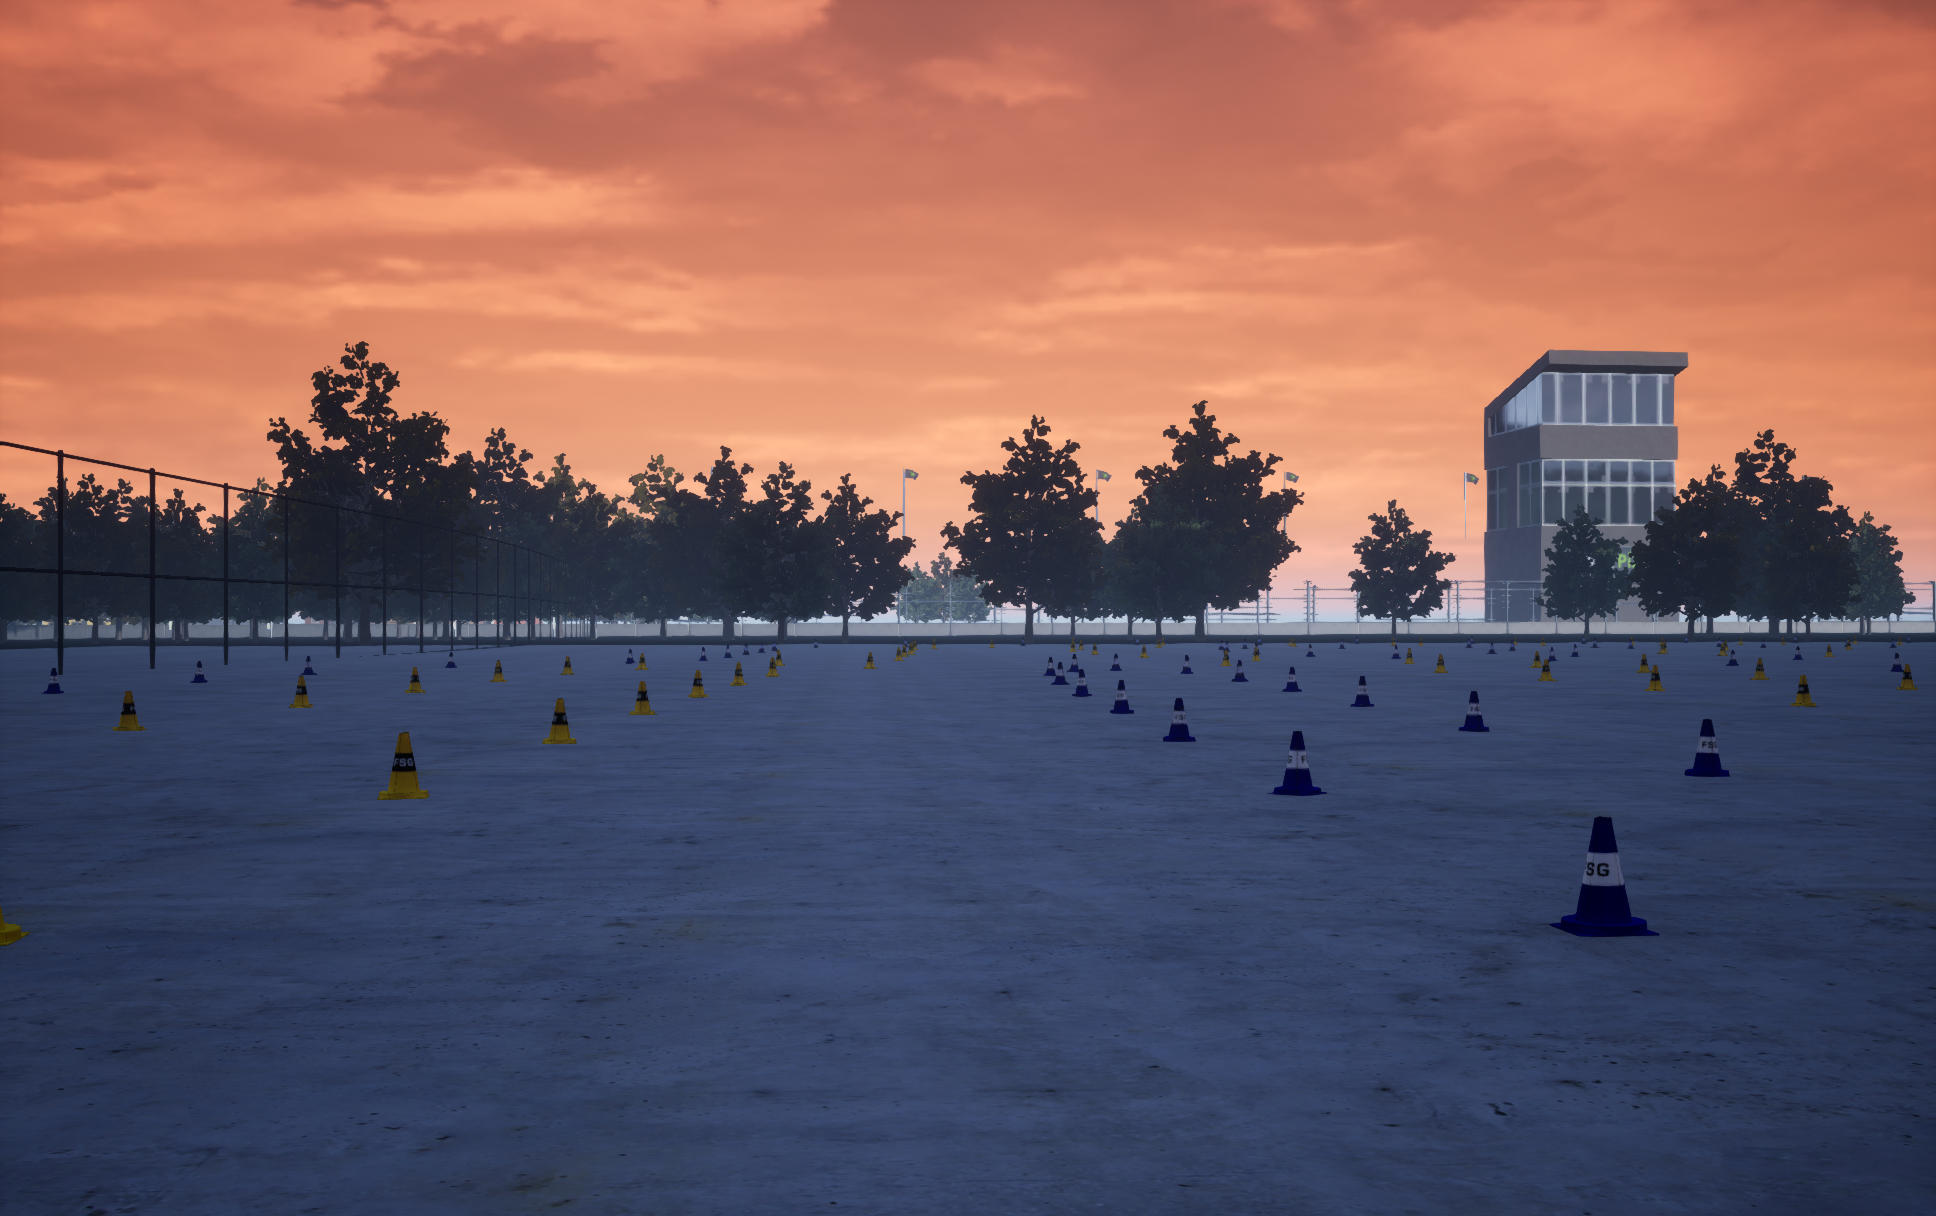blue: (375, 733, 429, 799), (542, 698, 576, 742), (112, 691, 147, 730), (0, 906, 29, 946), (628, 681, 657, 714), (1790, 675, 1816, 706), (289, 677, 312, 707), (688, 670, 707, 698), (1895, 664, 1916, 689), (403, 667, 424, 692), (1645, 665, 1664, 691), (1535, 658, 1556, 679), (1750, 658, 1768, 679), (730, 663, 747, 685), (490, 660, 506, 681), (559, 656, 574, 674), (765, 657, 779, 677), (1638, 654, 1652, 672), (1433, 654, 1447, 672)
yellow: (1549, 815, 1659, 936), (1266, 731, 1327, 794), (1684, 719, 1729, 776), (1163, 698, 1195, 741), (1458, 691, 1489, 731), (1109, 679, 1133, 713), (1350, 677, 1373, 706), (41, 668, 63, 693), (1072, 670, 1091, 696), (1280, 667, 1301, 691), (1051, 663, 1070, 684), (191, 661, 207, 682), (1231, 660, 1248, 681), (1180, 656, 1194, 672), (1066, 654, 1079, 671), (1044, 657, 1055, 675), (1109, 653, 1121, 670)
